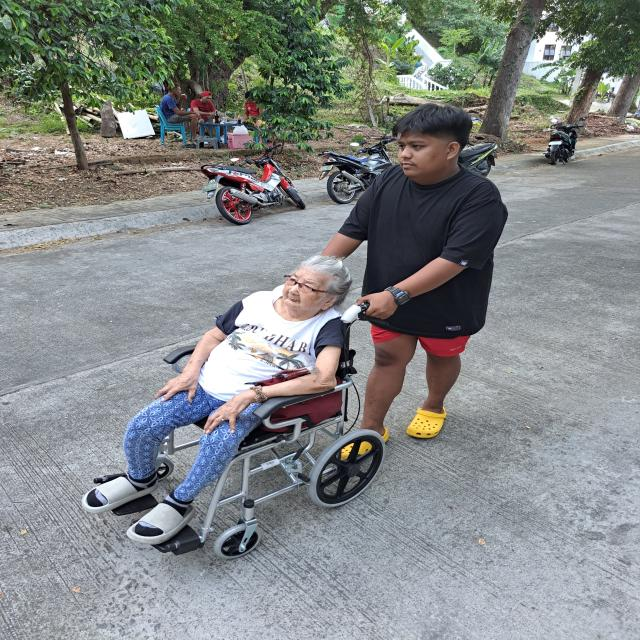wheelchairs: (90, 296, 402, 556)
